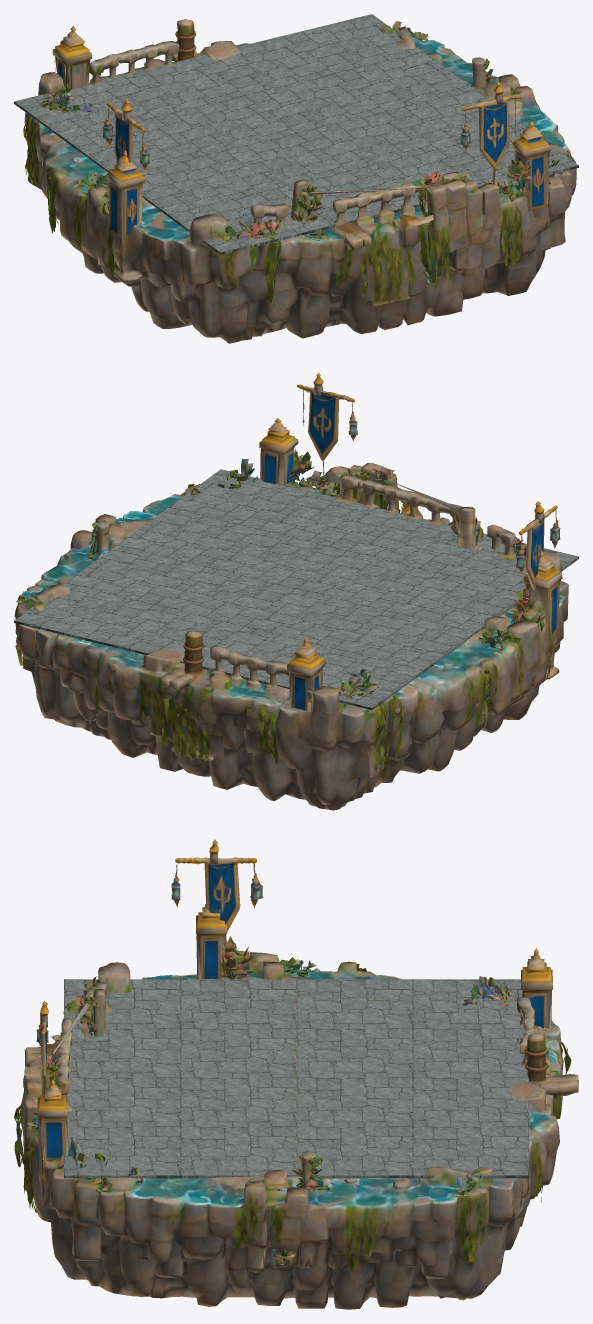
File: water-2.glb
3 renders of one model, top to bottom at view 1: azimuth 30°, elevation 25°; view 2: azimuth 150°, elevation 25°; view 3: azimuth 270°, elevation 25°, orthographic. The views are drawn at different scales.
Parts seen in each view (by area): view 1: World normalization, Solid marble courtyard tile; view 2: World normalization, Solid marble courtyard tile; view 3: Solid marble courtyard tile, World normalization.
Part boxes in pixels (x1,y1,x2,y2): World normalization: (23,19,576,343); Solid marble courtyard tile: (14,14,578,254); World normalization: (14,372,568,810); Solid marble courtyard tile: (14,469,578,710); Solid marble courtyard tile: (64,979,528,1178); World normalization: (14,839,578,1309).
Bounding box in the file's own units: 20 × 9.77 × 19.45.
4 materials, 4 textured.
